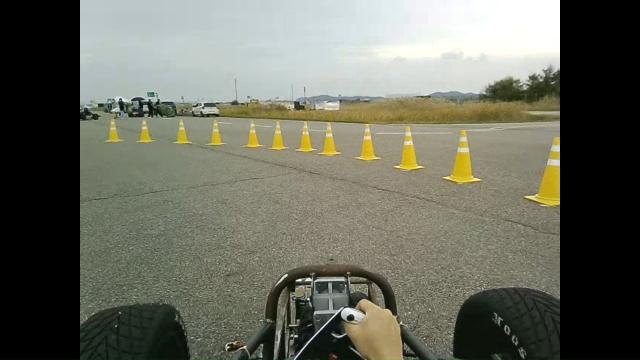yellow cone: (442, 129, 482, 183), (393, 126, 425, 170), (354, 123, 381, 161), (318, 121, 341, 156), (294, 120, 316, 152), (240, 119, 264, 148), (204, 119, 227, 146), (268, 120, 288, 150), (172, 118, 192, 144), (136, 117, 155, 143), (105, 118, 124, 142)
